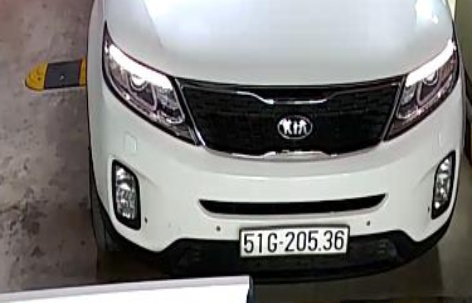plate: (238, 225, 348, 253)
